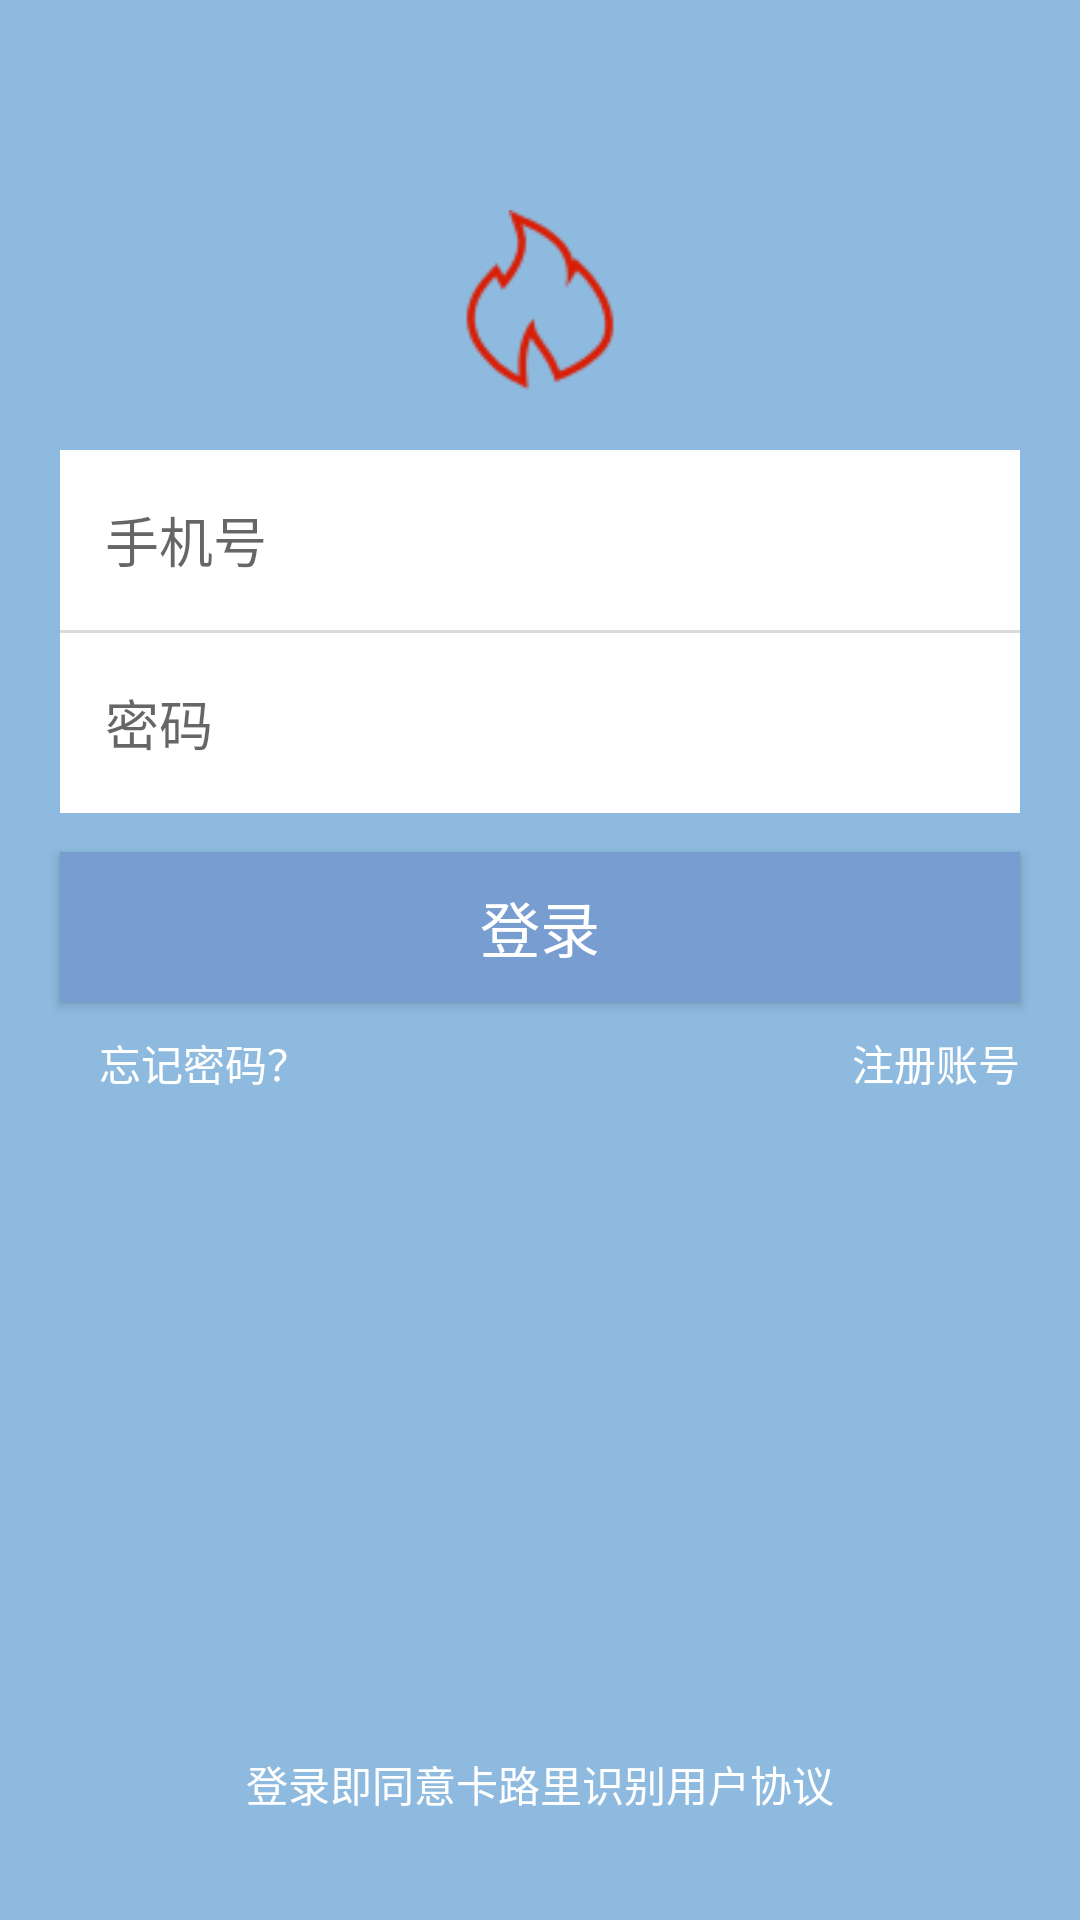

Icon click points for this 1080*1920 phone screenshot, format (x,y):
kaluli: (540,300)
